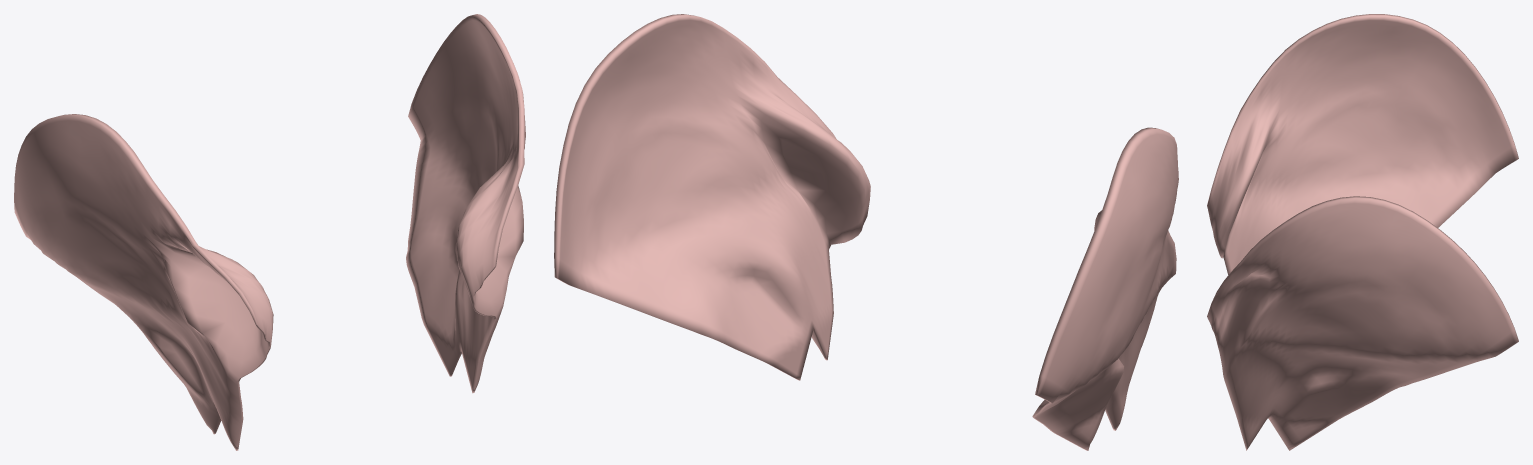
File: temporalis_lod1.glb
3 views of the same model, side by side, from view 1: azimuth 30°, elevation 25°; view 2: azimuth 150°, elevation 25°; view 3: azimuth 270°, elevation 25° (orthographic). The views are drawn at different scales.
Visible parts, largest first — view 1: temporalis_R_lod1, temporalis_L_lod1; view 2: temporalis_L_lod1, temporalis_R_lod1; view 3: temporalis_L_lod1, temporalis_R_lod1.
Part boxes in pixels (box(x1,y1,x2,y2)): temporalis_R_lod1: box(14, 114, 273, 450); temporalis_L_lod1: box(406, 14, 525, 393); temporalis_L_lod1: box(554, 14, 870, 380); temporalis_R_lod1: box(1032, 127, 1178, 450); temporalis_L_lod1: box(1207, 196, 1518, 450); temporalis_R_lod1: box(1207, 14, 1518, 274).
Bounding box in the file's own units: 0.1573 × 0.104 × 0.1017.
